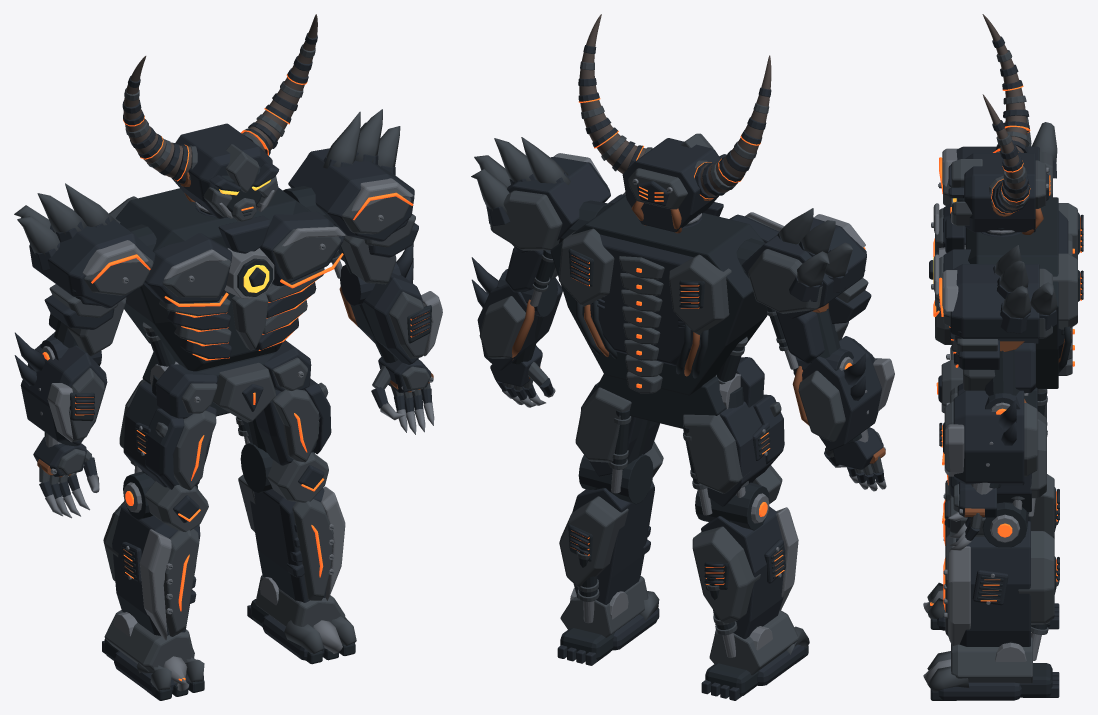
The model's file is Lattice.glb.
The picture shows the model from 3 angles, left to right: view 1: azimuth 30°, elevation 25°; view 2: azimuth 150°, elevation 25°; view 3: azimuth 270°, elevation 25°; orthographic projection. The views are drawn at different scales.
Visible parts, largest first — view 1: Thoracic structural cast, R Pauldron envelope, R Greave carrier, L Pauldron envelope, Helmet casting, L Vambrace base, L Greave carrier, R Greave face, R Vambrace base, L Ankle boot shield, L Greave face, L Pectoral carrier (+56 smaller); view 2: Thoracic structural cast, Dorsal carapace, Helmet casting, R Greave carrier, L Greave carrier, L Calf carapace, L Rear thigh plating, Hip transmission, L Vambrace base, R Calf carapace, R Pauldron envelope, R Pauldron rear shell (+42 smaller); view 3: R Greave carrier, R Vambrace base, Thoracic structural cast, R Pauldron envelope, Helmet casting, R Ankle boot shield, R Calf carapace, R Greave cutter, R exhaust shell, R foot sole, L continuous swept horn, R Vambrace outer rail (+42 smaller).
Part boxes in pixels (x1,y1,x2,y2): Thoracic structural cast: (115, 187, 310, 371); R Pauldron envelope: (288, 148, 414, 241); R Greave carrier: (250, 488, 326, 602); L Pauldron envelope: (29, 220, 155, 308); Helmet casting: (171, 123, 272, 218); L Vambrace base: (20, 332, 107, 446); L Greave carrier: (112, 504, 200, 635); R Greave face: (292, 499, 333, 600); R Vambrace base: (350, 273, 422, 364); L Ankle boot shield: (104, 610, 194, 673); L Greave face: (163, 529, 199, 636); L Pectoral carrier: (144, 233, 232, 303); Thoracic structural cast: (550, 195, 767, 395); Dorsal carapace: (590, 234, 701, 365); Helmet casting: (622, 138, 720, 232); R Greave carrier: (572, 482, 654, 604); L Greave carrier: (701, 506, 785, 638); L Calf carapace: (692, 526, 760, 623); L Rear thigh plating: (683, 414, 749, 493); Hip transmission: (598, 374, 726, 428); L Vambrace base: (802, 336, 881, 451); R Calf carapace: (559, 496, 628, 587); R Pauldron envelope: (488, 157, 610, 252); R Pauldron rear shell: (490, 190, 562, 250); R Greave carrier: (956, 521, 1030, 646); R Vambrace base: (953, 390, 1024, 485); Thoracic structural cast: (965, 197, 1058, 388); R Pauldron envelope: (950, 264, 1039, 343); Helmet casting: (964, 153, 1035, 232); R Ankle boot shield: (951, 637, 1032, 683); R Calf carapace: (1018, 531, 1054, 625); R Greave cutter: (948, 546, 970, 645); R exhaust shell: (1053, 253, 1077, 329); R foot sole: (938, 682, 1021, 700); L continuous swept horn: (982, 14, 1026, 152); R Vambrace outer rail: (944, 424, 964, 476).
Bounding box in the file's own units: 4.63 × 6.92 × 1.67.
